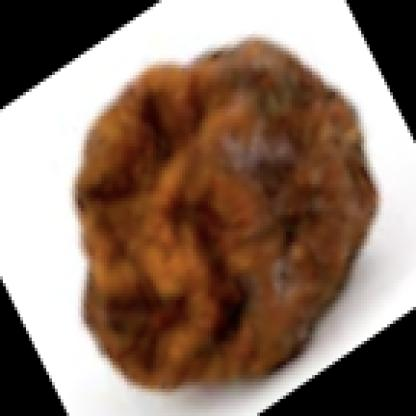rotten: (75, 36, 380, 398)
